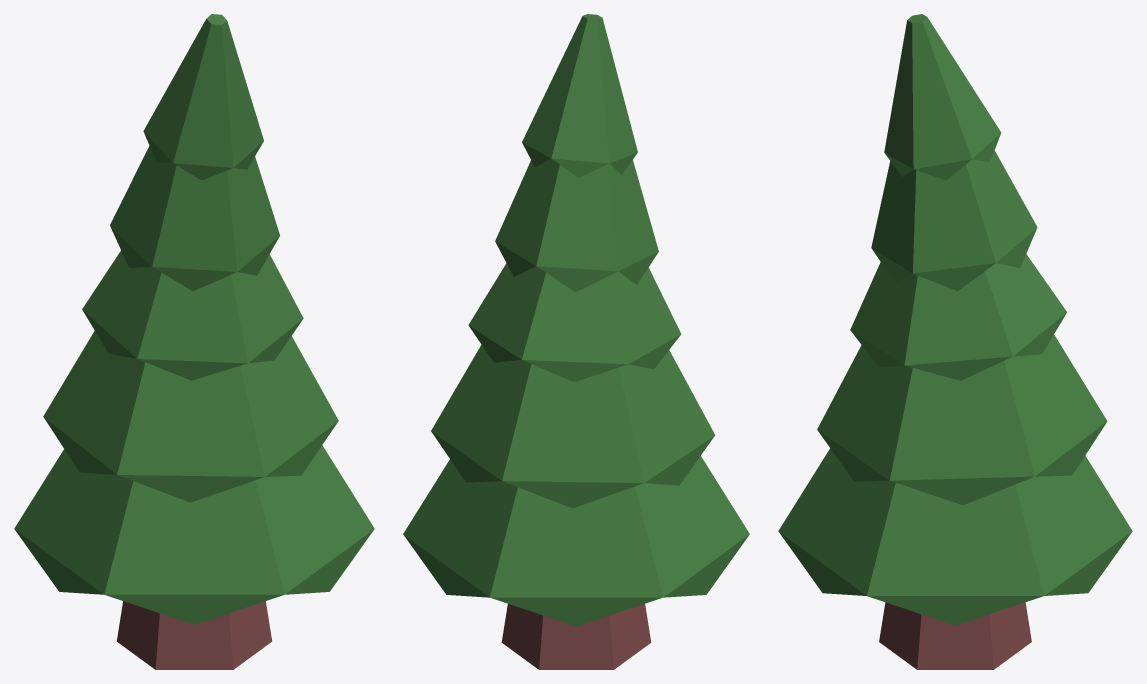
The model's file is tree3.fbx.
3 renders of one model, left to right at view 1: azimuth 30°, elevation 25°; view 2: azimuth 150°, elevation 25°; view 3: azimuth 270°, elevation 25°, orthographic. The views are drawn at different scales.
Visible parts, largest first — view 1: polySurface57, polySurface73; view 2: polySurface57, polySurface73; view 3: polySurface57, polySurface73.
Boxes of the visible parts, <box> form: polySurface57: <box>14,14,374,624</box>; polySurface73: <box>116,601,272,669</box>; polySurface57: <box>403,14,749,626</box>; polySurface73: <box>501,604,651,669</box>; polySurface57: <box>778,14,1132,625</box>; polySurface73: <box>879,602,1031,669</box>.
Size of the model in its own units: 48.04 by 108 by 55.47.
